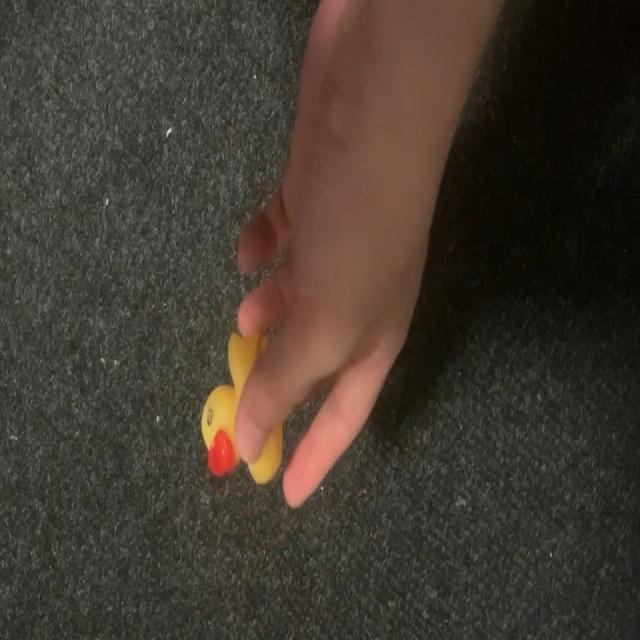rubber-duck: (200, 332, 259, 475), (247, 424, 281, 482)
